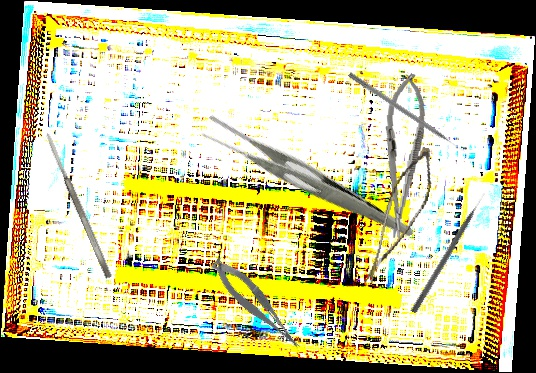Dressing Forceps: (196, 69, 415, 292)
Micro Scissor: (362, 140, 440, 296), (207, 249, 305, 361)
Needle Holder: (375, 71, 430, 240)
Pusher: (346, 71, 467, 156), (410, 191, 489, 315)
Spatula Surgical: (43, 131, 114, 280)
